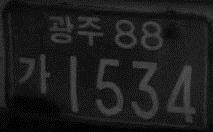1: (67, 52, 81, 114)
3: (130, 59, 159, 119)
4: (164, 63, 196, 124)
5: (94, 56, 124, 116)
8: (140, 20, 163, 50), (115, 18, 136, 49)
가: (17, 53, 52, 96)
광주_O: (47, 13, 103, 44)
